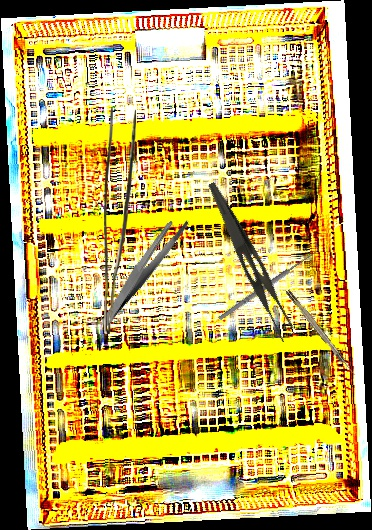Dressing Forceps: (190, 180, 305, 345), (78, 212, 209, 328)
Hook Surgical: (213, 241, 324, 323), (285, 288, 357, 378)
Tissue Forceps: (104, 108, 136, 334)
